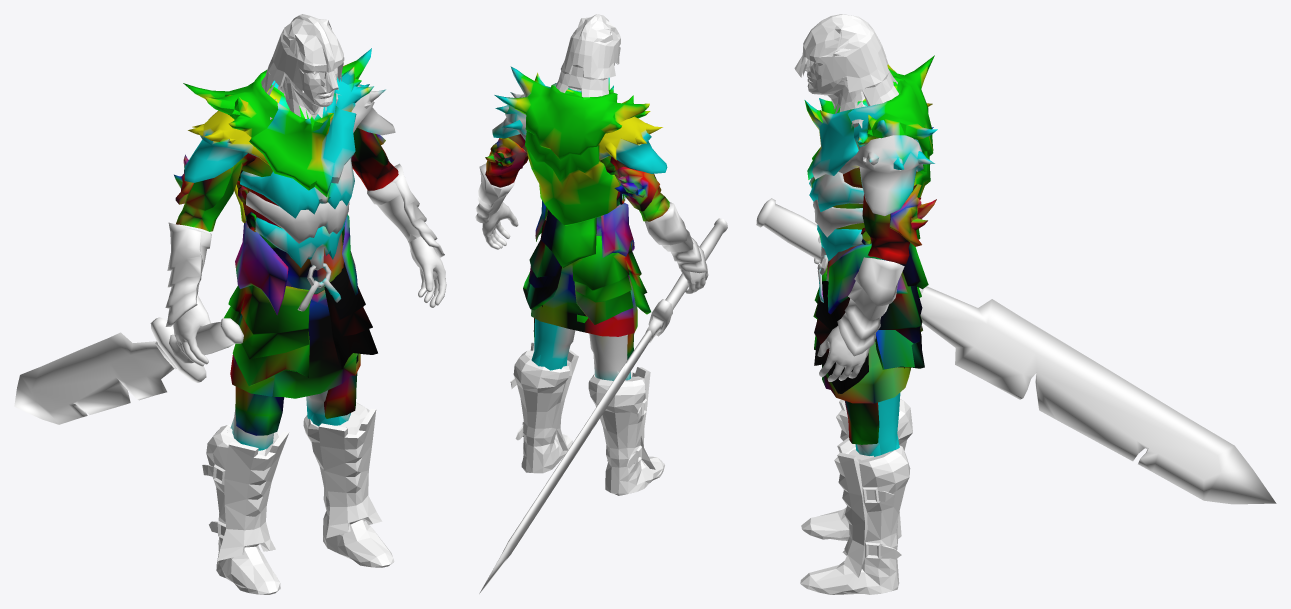
The model's file is human_heavy.fbx.
The picture shows the model from 3 angles, left to right: view 1: azimuth 30°, elevation 25°; view 2: azimuth 150°, elevation 25°; view 3: azimuth 270°, elevation 25°; orthographic projection. The views are drawn at different scales.
Parts seen in each view (by area): view 1: human_heavy; view 2: human_heavy; view 3: human_heavy.
Part boxes in pixels (box(x1,y1,x2,y2)): human_heavy: box(14, 14, 446, 594); human_heavy: box(475, 14, 727, 593); human_heavy: box(756, 14, 1276, 594).
Size of the model in its own units: 105 by 197 by 170.
